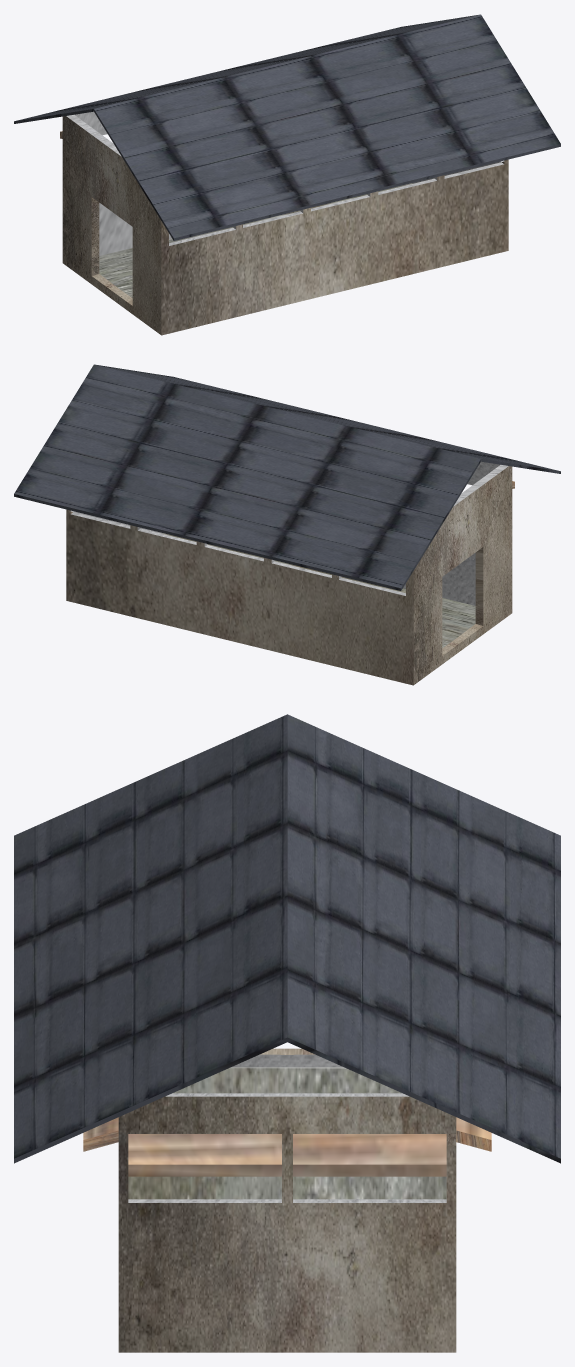
File: barrack_building.fbx
3 renders of one model, top to bottom at view 1: azimuth 30°, elevation 25°; view 2: azimuth 150°, elevation 25°; view 3: azimuth 270°, elevation 25°, orthographic. The views are drawn at different scales.
Visible parts, largest first — view 1: Plane; view 2: Plane; view 3: Plane.
Part boxes in pixels (bbox=[...]): Plane: bbox=[14, 14, 560, 335]; Plane: bbox=[14, 364, 560, 685]; Plane: bbox=[14, 714, 560, 1352].
Bounding box in the file's own units: 2932 × 1411 × 2097.
